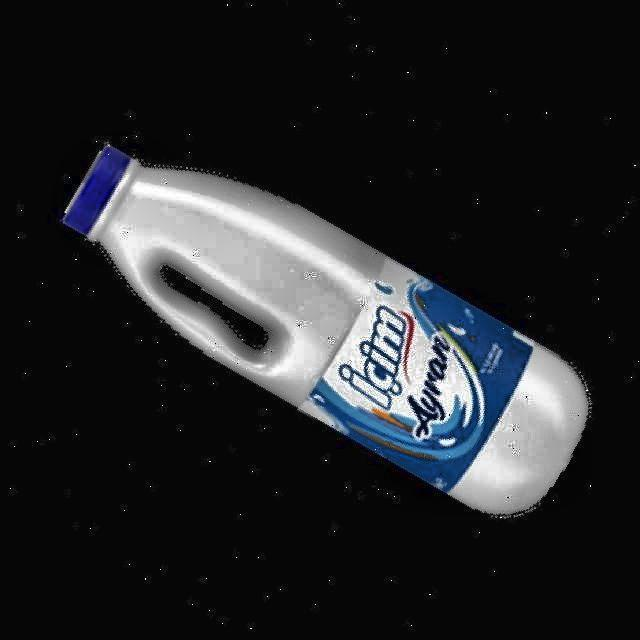plastic: (64, 145, 589, 514)
